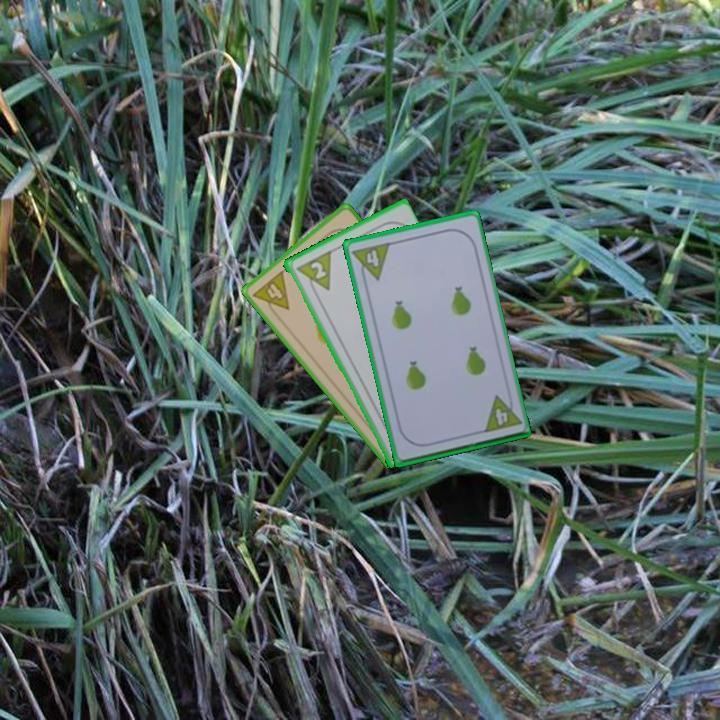2p: (291, 247, 334, 299)
4p: (249, 267, 292, 321), (349, 239, 393, 286), (479, 390, 523, 435)
